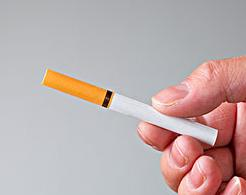smoke: (39, 66, 221, 147)
